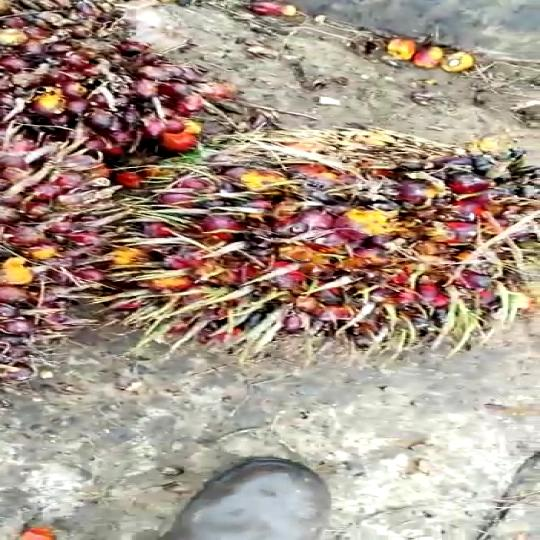masak: (117, 120, 540, 353)
